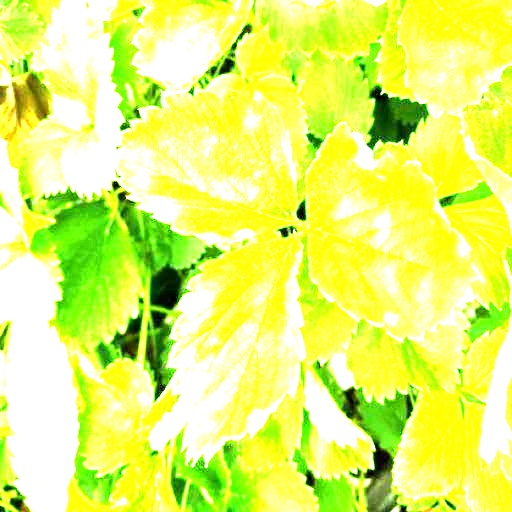Powdery Mildew Leaf: (304, 120, 483, 343), (167, 236, 306, 468), (111, 86, 300, 245), (69, 351, 155, 478), (107, 456, 178, 511)
